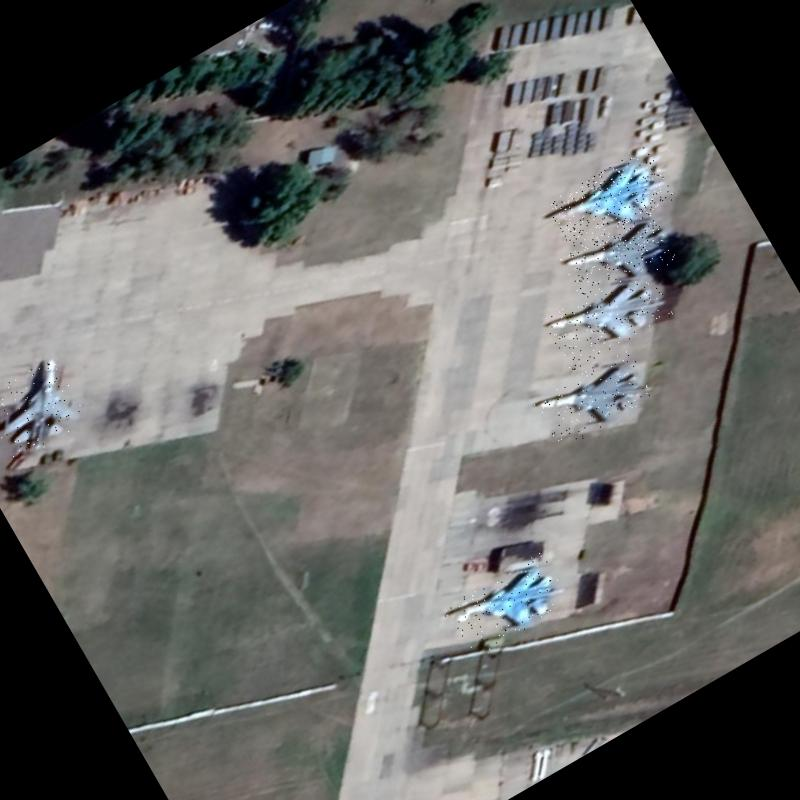A19: (542, 261, 675, 372), (441, 550, 572, 660), (546, 146, 676, 256), (533, 346, 658, 451), (558, 206, 681, 312), (0, 355, 90, 464)
